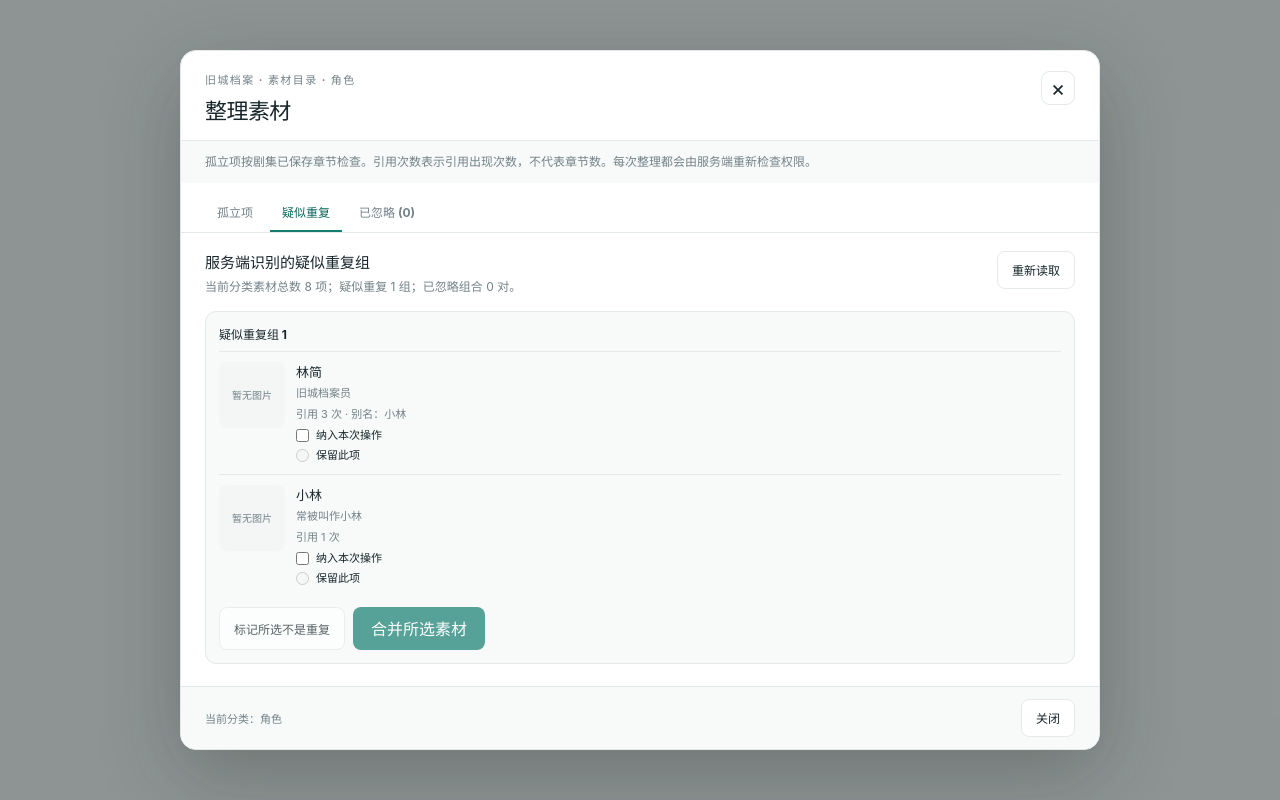
asset maintenance dialog › keeps an orphan check failure distinct from a confirmed empty result
Check: the text "林简" is shown, box [296,364,322,380]
Click the tab "孤立项".
click(235, 213)  # box [205,194,265,232]
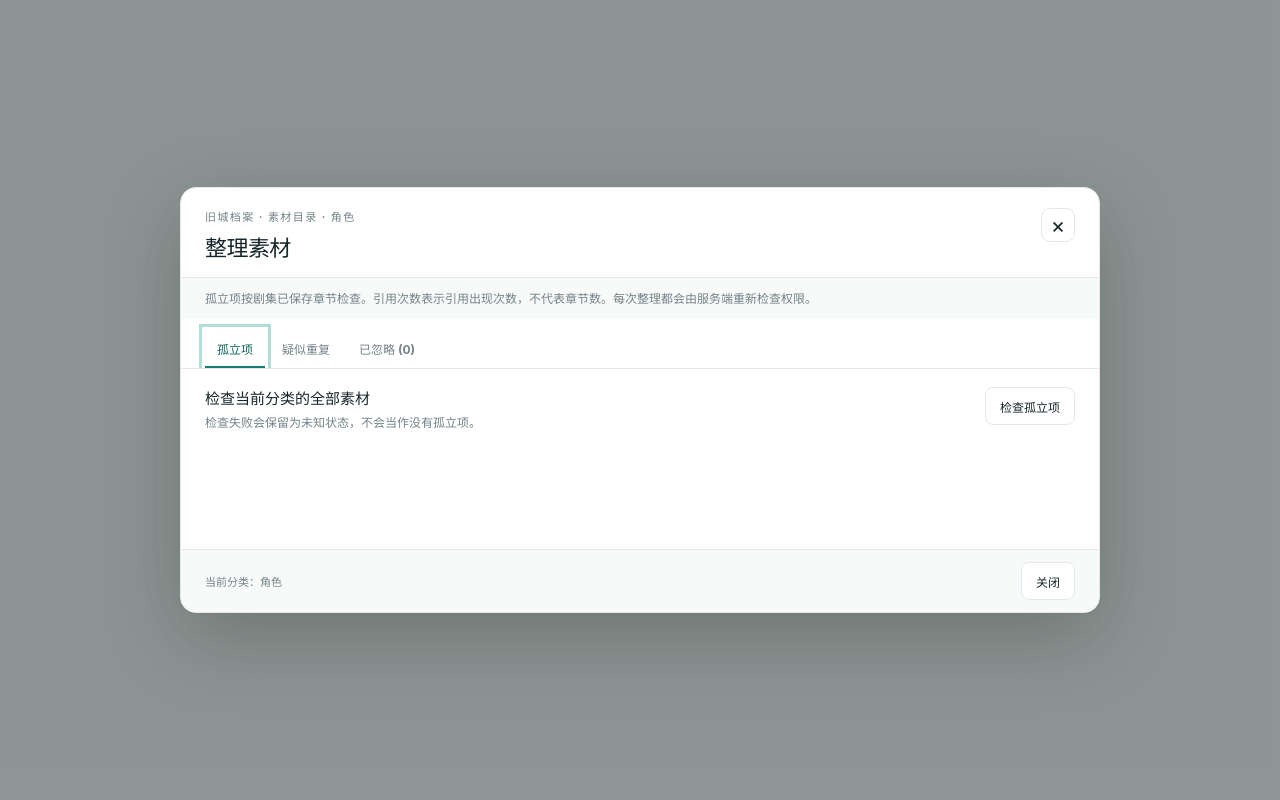
Click the button "检查孤立项".
click(1030, 406)  # box [985,387,1075,425]
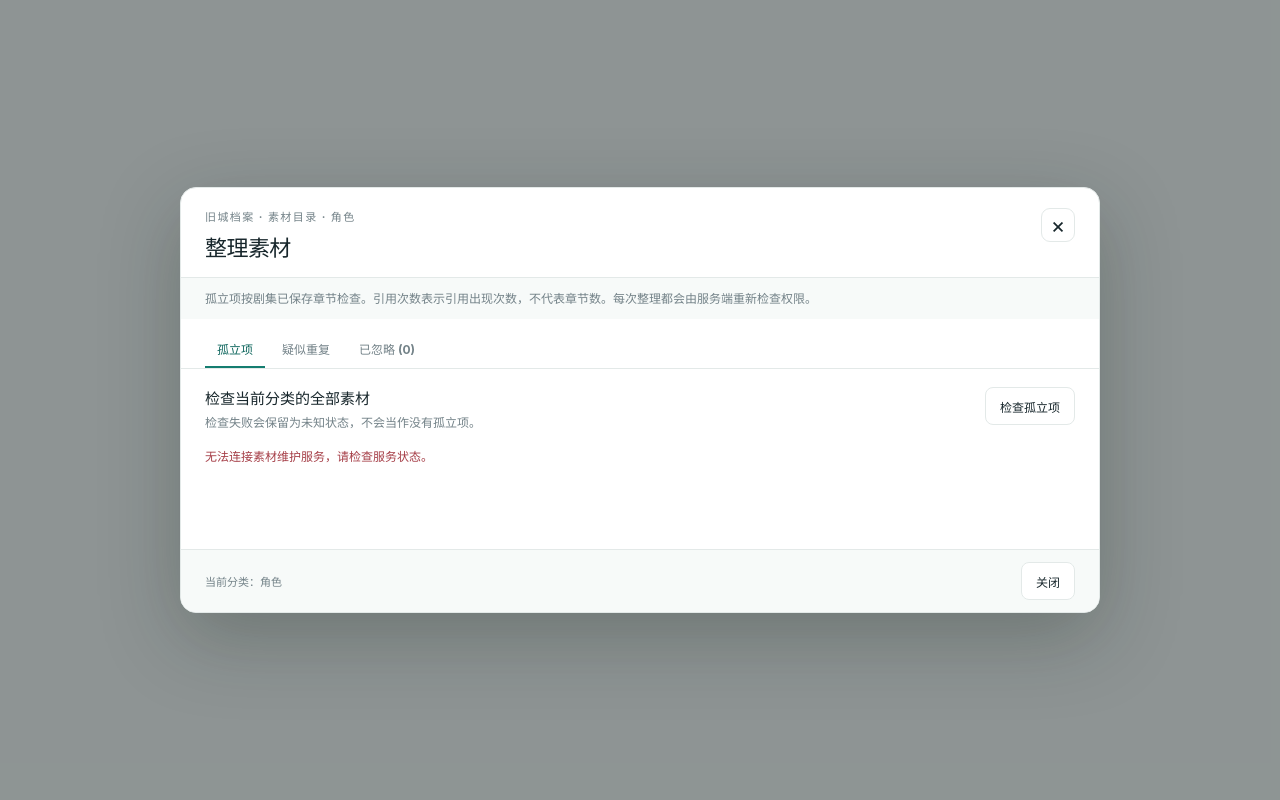
Check: the text "已完成检查，未发现孤立素材。" is not shown
Check: the message shows "无法连接素材维护服务", box [205,449,433,464]
Click the button "检查孤立项".
click(1030, 406)  # box [985,387,1075,425]
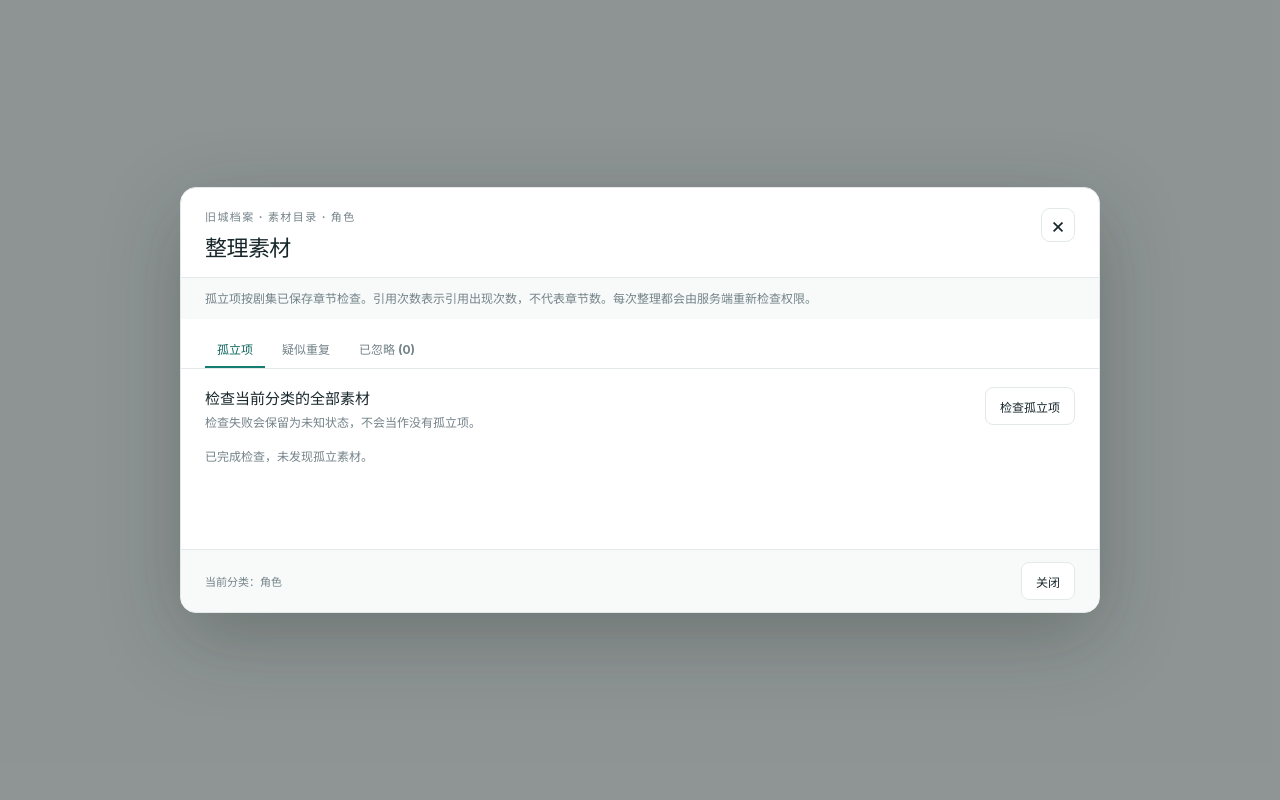
Check: the text "已完成检查，未发现孤立素材。" is shown, box [205,449,373,464]
